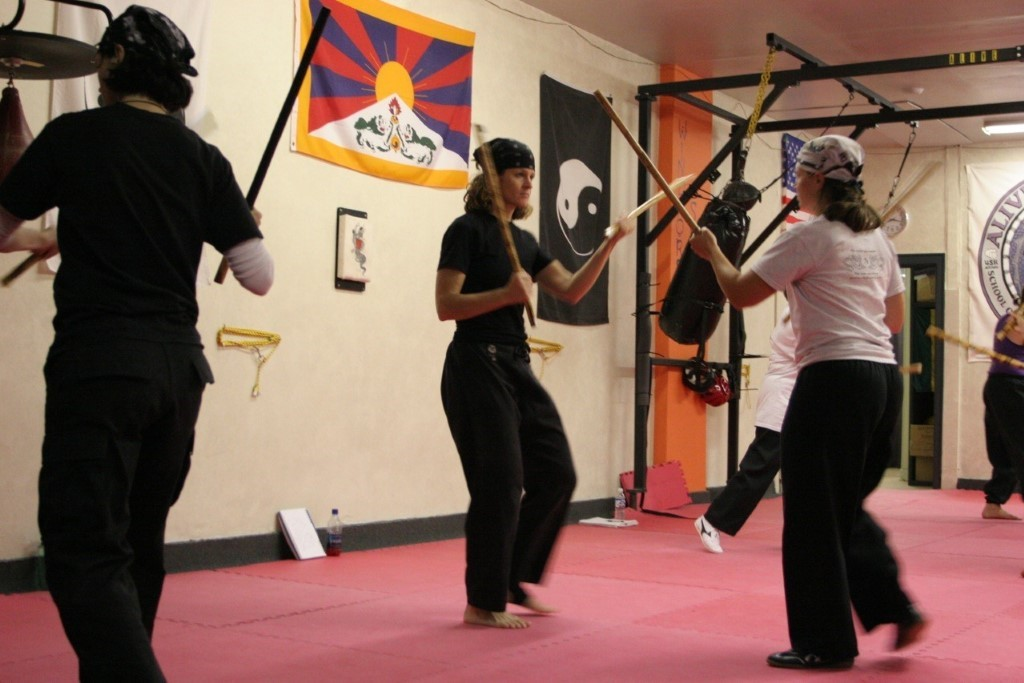baston_e: (217, 13, 329, 275), (594, 94, 701, 227), (473, 135, 534, 317), (614, 175, 684, 232), (928, 336, 1020, 367), (7, 253, 35, 285)
baston_v: (209, 264, 229, 288), (923, 322, 938, 338), (590, 86, 604, 102), (319, 0, 333, 15), (601, 226, 615, 241), (472, 125, 486, 139), (0, 273, 11, 290), (914, 362, 927, 372), (993, 332, 1004, 343), (528, 319, 538, 330)
